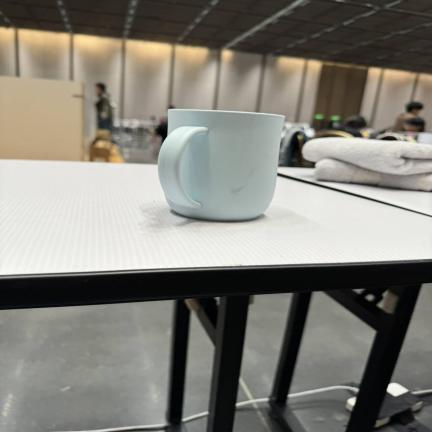cup: (158, 110, 284, 221)
